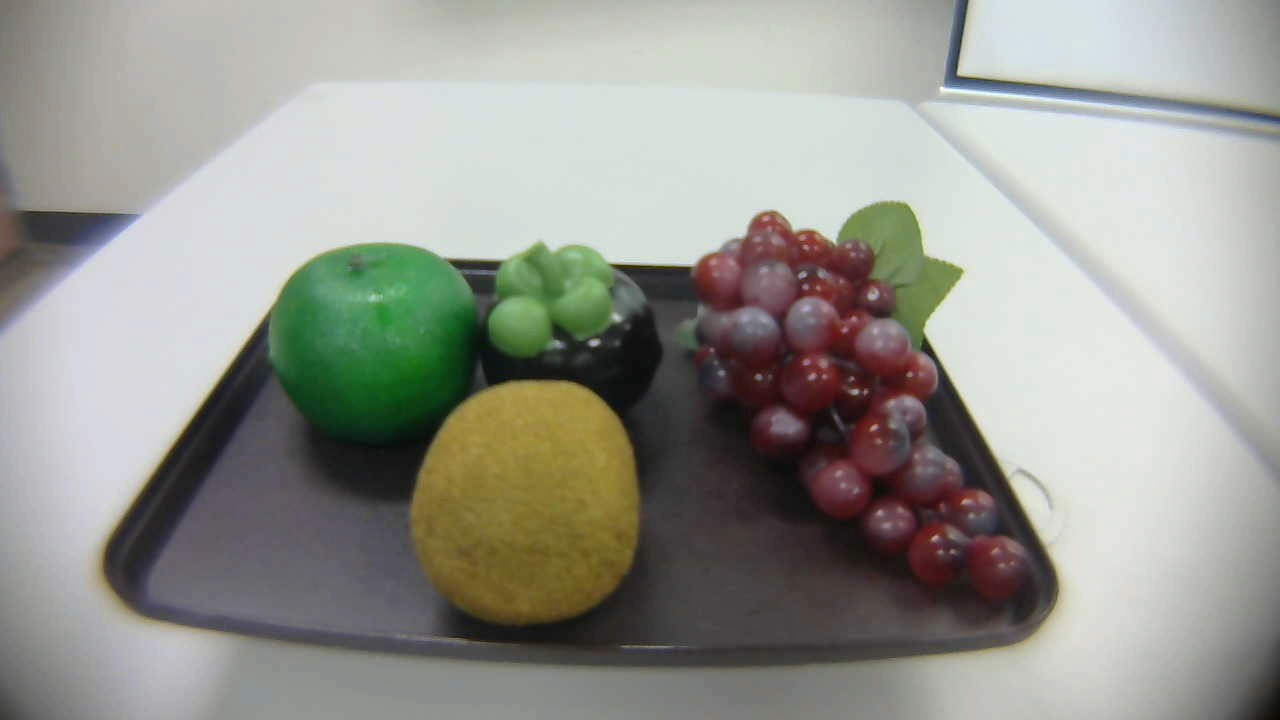grape: (682, 189, 1055, 616)
green orange: (263, 236, 492, 453)
kiwi fruit: (407, 379, 640, 631)
mangosteen: (468, 237, 679, 420)
